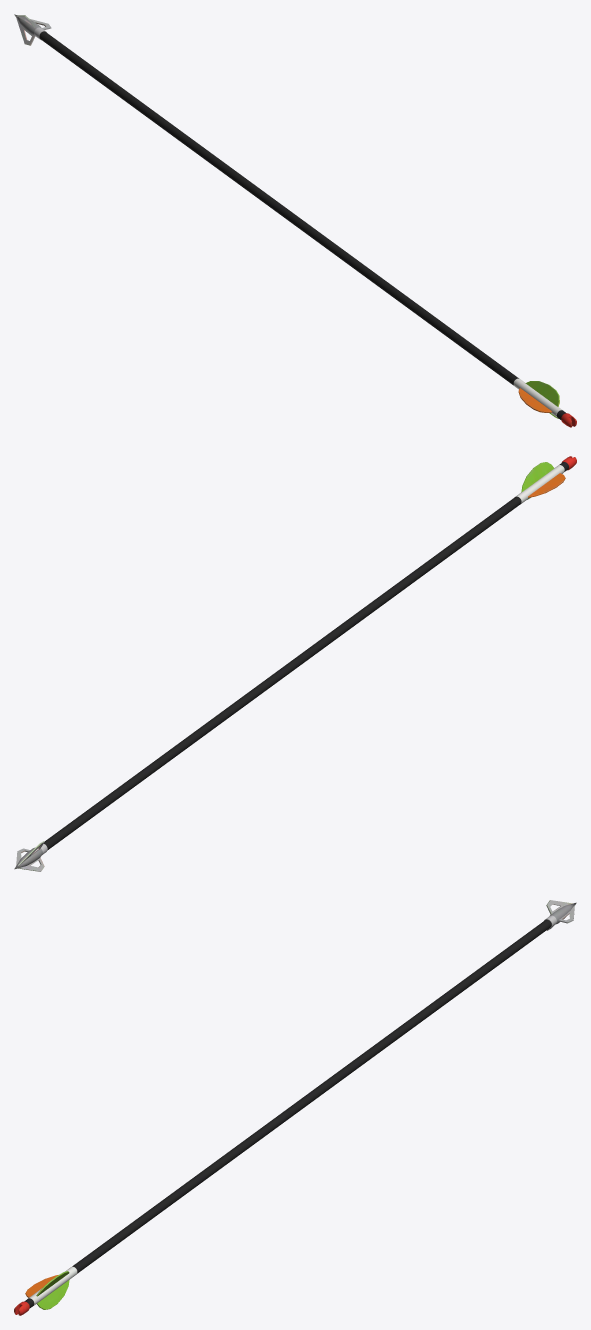
Rendered from flecha_carbono.glb.
The picture shows the model from 3 angles, top to bottom: view 1: azimuth 30°, elevation 25°; view 2: azimuth 150°, elevation 25°; view 3: azimuth 330°, elevation 25°; orthographic projection.
Parts seen in each view (by area): view 1: flecha_carbono_flecha; view 2: flecha_carbono_flecha; view 3: flecha_carbono_flecha.
Boxes of the visible parts, <box> form: flecha_carbono_flecha: <box>14,14,576,427</box>; flecha_carbono_flecha: <box>14,456,576,871</box>; flecha_carbono_flecha: <box>14,900,576,1315</box>.
Bounding box in the file's own units: 0.0244 × 0.0219 × 0.766.
Materials: 1 (1 with a texture image).
